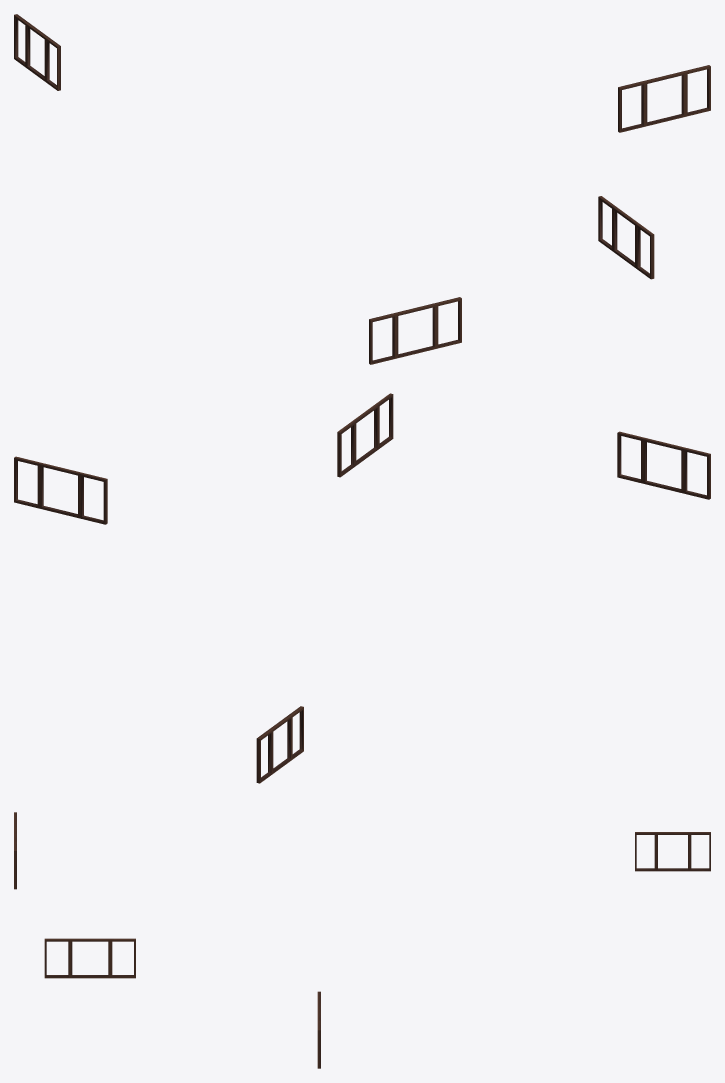
The model's file is Ventanas habitaiones.fbx.
3 renders of one model, top to bottom at view 1: azimuth 30°, elevation 25°; view 2: azimuth 150°, elevation 25°; view 3: azimuth 270°, elevation 25°, orthographic. The views are drawn at different scales.
Parts seen in each view (by area): view 1: Cube.004, Cube.001, Cube.002, Cube.003; view 2: Cube.001, Cube.004, Cube.002, Cube.003; view 3: Cube.002, Cube.003.
Part boxes in pixels (x1,y1,x2,y2): Cube.004: [618, 65, 710, 132]; Cube.001: [369, 297, 461, 364]; Cube.002: [598, 196, 654, 279]; Cube.003: [14, 14, 60, 90]; Cube.001: [617, 431, 710, 499]; Cube.004: [14, 456, 107, 524]; Cube.002: [337, 393, 393, 477]; Cube.003: [256, 706, 303, 783]; Cube.002: [44, 938, 135, 978]; Cube.003: [635, 832, 710, 871].
Size of the model in its own units: 1702 by 141 by 2301.
